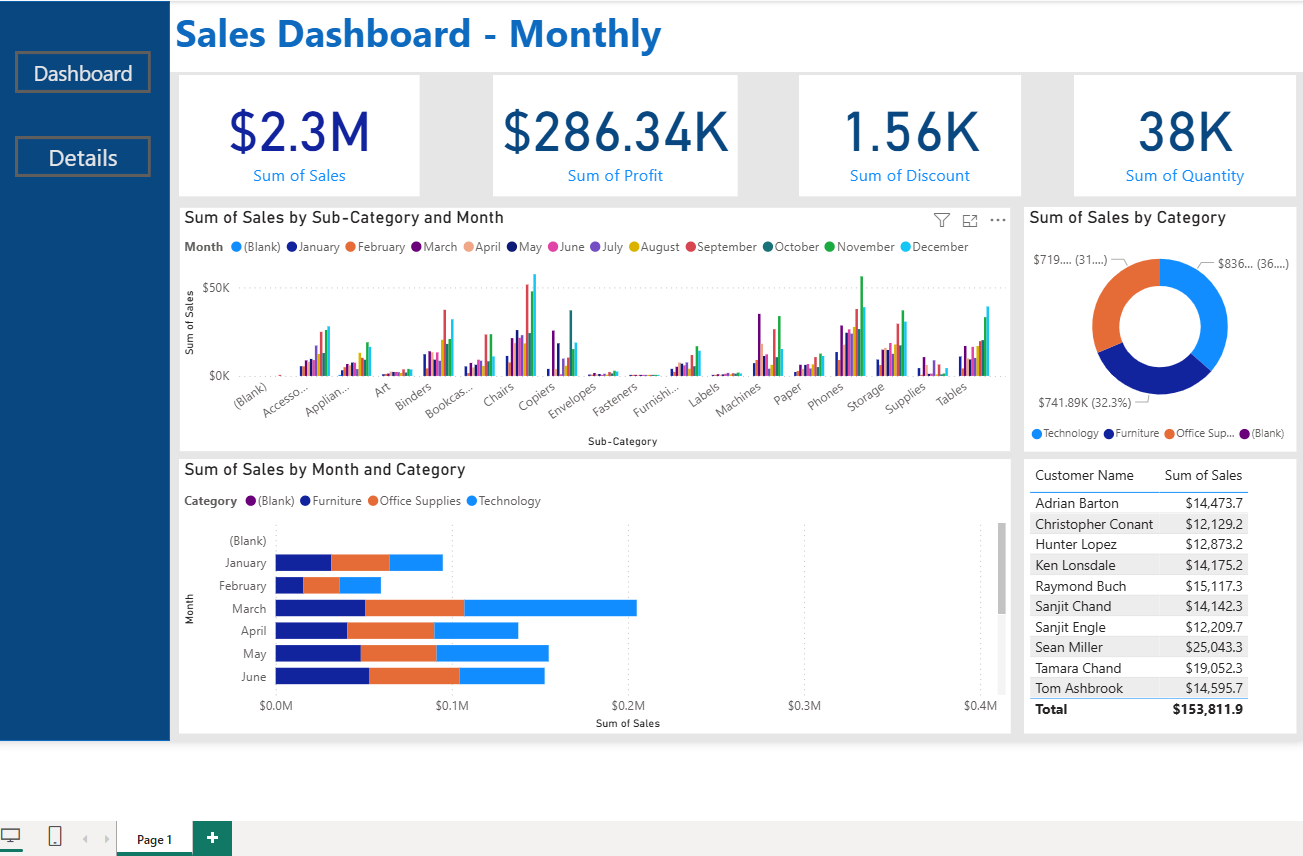

Layout of this report page (visuals, bound fields, positions):
{"tool":"powerbi","page":{"name":"Page 1","canvas":[1280,720],"ordinal":0},"visuals":[{"type":"shape","box":[0,0,176,719.8],"z":0},{"type":"actionButton","box":[25.3,48.6,132.3,40.9],"z":1},{"type":"actionButton","box":[25.3,131.3,132.3,39.9],"z":2},{"type":"textbox","box":[176,0,1104,69.1],"z":3},{"type":"card","fields":{"Values":["Sum(Sheet1.Sales)"]},"box":[184.8,72,234.4,117.7],"z":4},{"type":"card","fields":{"Values":["Sum(Sheet1.Profit)"]},"box":[490.2,72,238.3,117.7],"z":5},{"type":"card","fields":{"Values":["Sum(Sheet1.Discount)"]},"box":[787.8,72,215.9,117.7],"z":6},{"type":"card","fields":{"Values":["Sum(Sheet1.Quantity)"]},"box":[1055.3,72,215.9,117.7],"z":7},{"type":"clusteredColumnChart","fields":{"Category":["Sheet1.Sub-Category"],"Y":["Sum(Sheet1.Sales)"],"Series":["Sheet1.Order Date.Variation.Date Hierarchy.Month"]},"box":[184.8,200.4,809.2,238.3],"z":8},{"type":"donutChart","fields":{"Category":["Sheet1.Category"],"Y":["Sum(Sheet1.Sales)"]},"box":[1006.7,200.4,264.6,238.3],"z":9},{"type":"tableEx","fields":{"Values":["Sheet1.Customer Name","Sum(Sheet1.Sales)"]},"box":[1006.7,445.5,264.6,267.5],"z":10},{"type":"barChart","fields":{"Category":["Sheet1.Order Date.Variation.Date Hierarchy.Month"],"Y":["Sum(Sheet1.Sales)"],"Series":["Sheet1.Category"]},"box":[184.8,445.5,809.2,267.5],"z":11}]}

Visuals, with their boxes on the page's 1280x720 design canvas (x1, y1, x2, y2). These are canvas units, not pixel positions in the 1303x856 screenshot, which may show the page scaled, cropped or inside an application window:
shape: bbox=[0, 0, 176, 720]
actionButton: bbox=[25, 49, 158, 90]
actionButton: bbox=[25, 131, 158, 171]
textbox: bbox=[176, 0, 1280, 69]
card - Sum(Sheet1.Sales): bbox=[185, 72, 419, 190]
card - Sum(Sheet1.Profit): bbox=[490, 72, 728, 190]
card - Sum(Sheet1.Discount): bbox=[788, 72, 1004, 190]
card - Sum(Sheet1.Quantity): bbox=[1055, 72, 1271, 190]
clusteredColumnChart - Sheet1.Sub-Category x Sum(Sheet1.Sales): bbox=[185, 200, 994, 439]
donutChart - Sheet1.Category x Sum(Sheet1.Sales): bbox=[1007, 200, 1271, 439]
tableEx - Sheet1.Customer Name x Sum(Sheet1.Sales): bbox=[1007, 446, 1271, 713]
barChart - Sheet1.Order Date.Variation.Date Hierarchy.Month x Sum(Sheet1.Sales): bbox=[185, 446, 994, 713]
